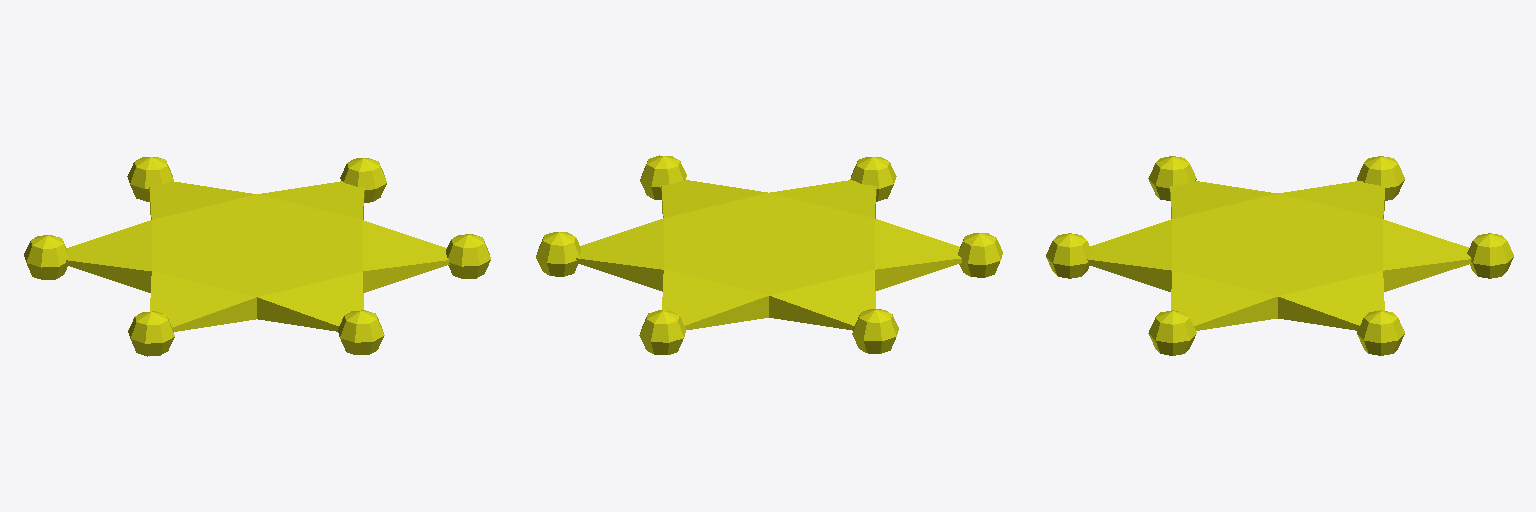
3 renders of one model, left to right at view 1: azimuth 30°, elevation 25°; view 2: azimuth 150°, elevation 25°; view 3: azimuth 270°, elevation 25°, orthographic.
Visible parts, largest first — view 1: Cylinder; view 2: Cylinder; view 3: Cylinder.
Boxes of the visible parts, x1=… form: Cylinder: x1=24, y1=157, x2=490, y2=356; Cylinder: x1=536, y1=155, x2=1002, y2=354; Cylinder: x1=1046, y1=156, x2=1513, y2=355.
Bounding box in the file's own units: 3.4 × 0.4 × 3.85.
Materials: 1 (1 with a texture image).